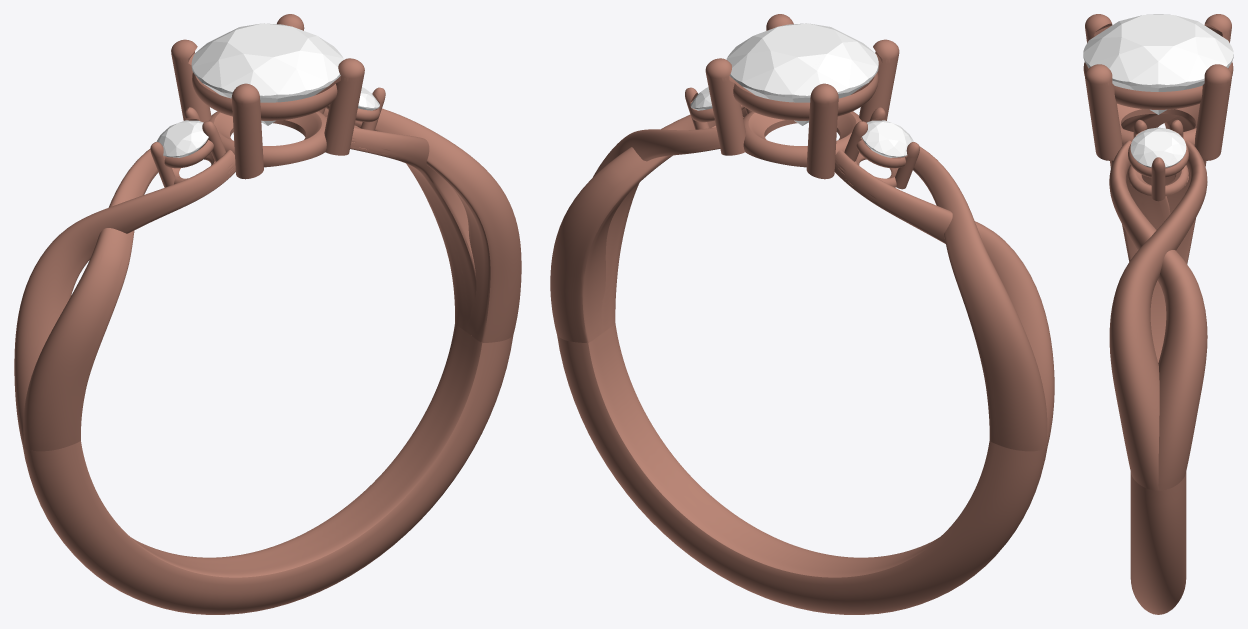
The model's file is davidWard_webgi.glb.
3 renders of one model, left to right at view 1: azimuth 30°, elevation 25°; view 2: azimuth 150°, elevation 25°; view 3: azimuth 270°, elevation 25°, orthographic.
Visible parts, largest first — view 1: Ward_David_2020, Ward_David_2020006, Ward_David_2020007; view 2: Ward_David_2020, Ward_David_2020006, Ward_David_2020007; view 3: Ward_David_2020, Ward_David_2020006, Ward_David_2020008.
Boxes of the visible parts, x1=… form: Ward_David_2020: x1=14, y1=14, x2=521, y2=614; Ward_David_2020006: x1=191, y1=23, x2=343, y2=125; Ward_David_2020007: x1=156, y1=120, x2=208, y2=157; Ward_David_2020: x1=550, y1=14, x2=1054, y2=614; Ward_David_2020006: x1=726, y1=23, x2=878, y2=125; Ward_David_2020007: x1=861, y1=120, x2=913, y2=157; Ward_David_2020: x1=1083, y1=14, x2=1233, y2=614; Ward_David_2020006: x1=1083, y1=14, x2=1233, y2=114; Ward_David_2020008: x1=1130, y1=127, x2=1186, y2=167.
Bounding box in the file's own units: 2.64 × 2.92 × 0.7114.
